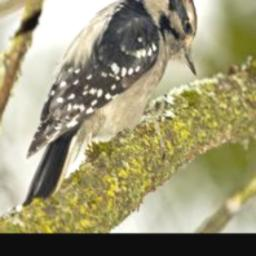Woodpecker: (6, 0, 198, 215)
